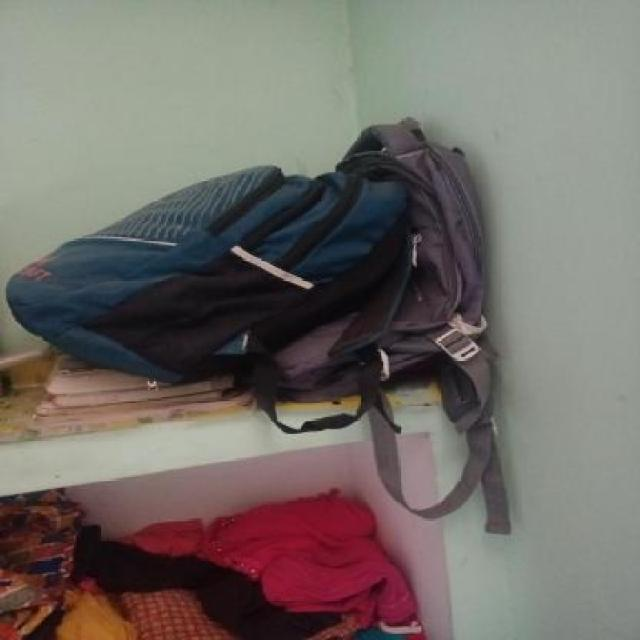backpack: (5, 163, 417, 363)
